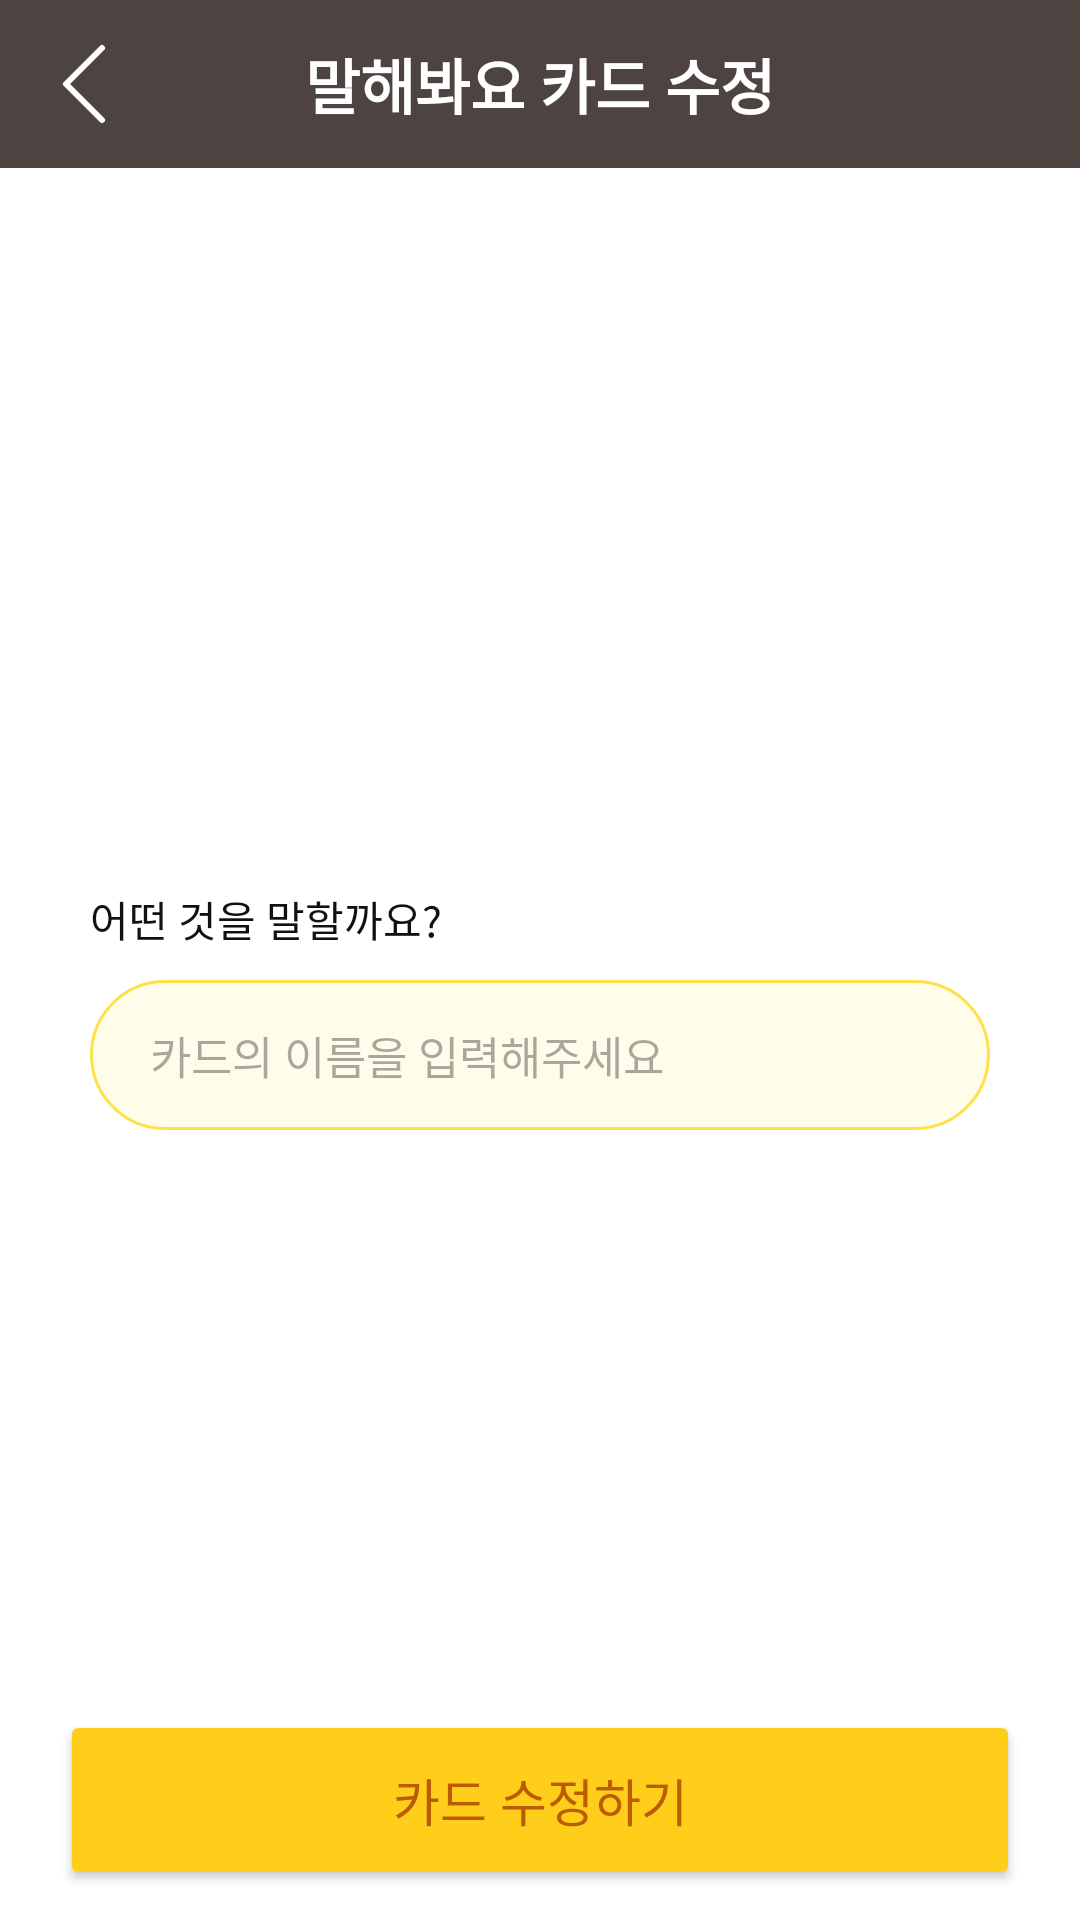

Icon click points for this 1080*1920 phone screenshot, format (x,y):
back: (84,83)
